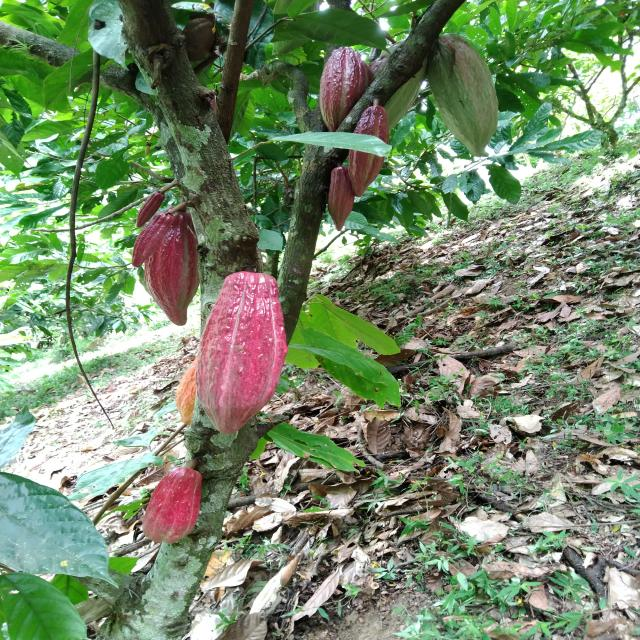Sana: (198, 268, 287, 438), (419, 32, 500, 155), (149, 222, 198, 325), (138, 470, 202, 545), (319, 51, 378, 126), (353, 102, 391, 194), (134, 210, 176, 269), (324, 167, 352, 235), (177, 362, 206, 424), (144, 190, 162, 230)
